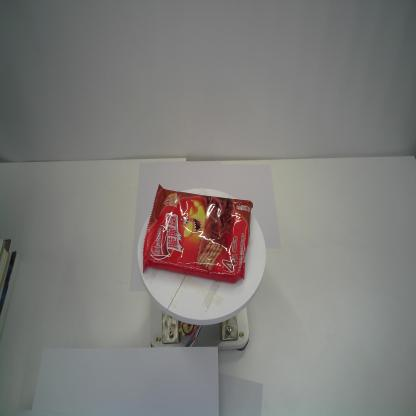Dessert: (143, 184, 253, 284)
